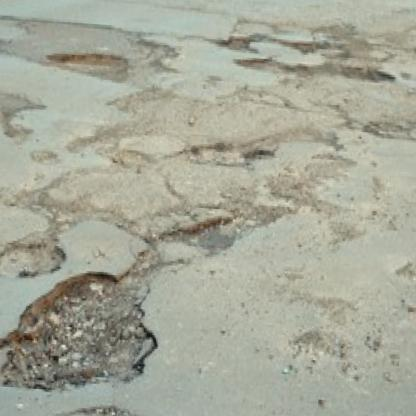pothole: (0, 260, 162, 399), (159, 214, 236, 274), (64, 123, 151, 174), (181, 133, 278, 174), (0, 236, 68, 285), (45, 50, 130, 72), (233, 54, 301, 77), (336, 61, 396, 84), (0, 121, 33, 146), (215, 32, 249, 53), (30, 146, 59, 166)
